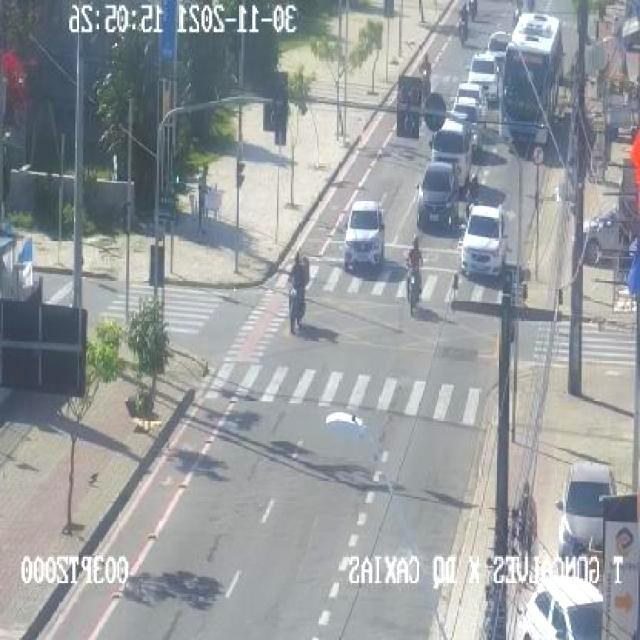Bus: (487, 16, 576, 145)
Car: (550, 462, 622, 555), (512, 578, 610, 640), (453, 200, 515, 275), (336, 192, 394, 268), (408, 160, 462, 222), (424, 125, 479, 170), (468, 54, 502, 88), (448, 93, 482, 121), (456, 76, 486, 97)
Cycle: (274, 254, 320, 336), (398, 244, 436, 312), (413, 56, 444, 97), (450, 8, 475, 45)
